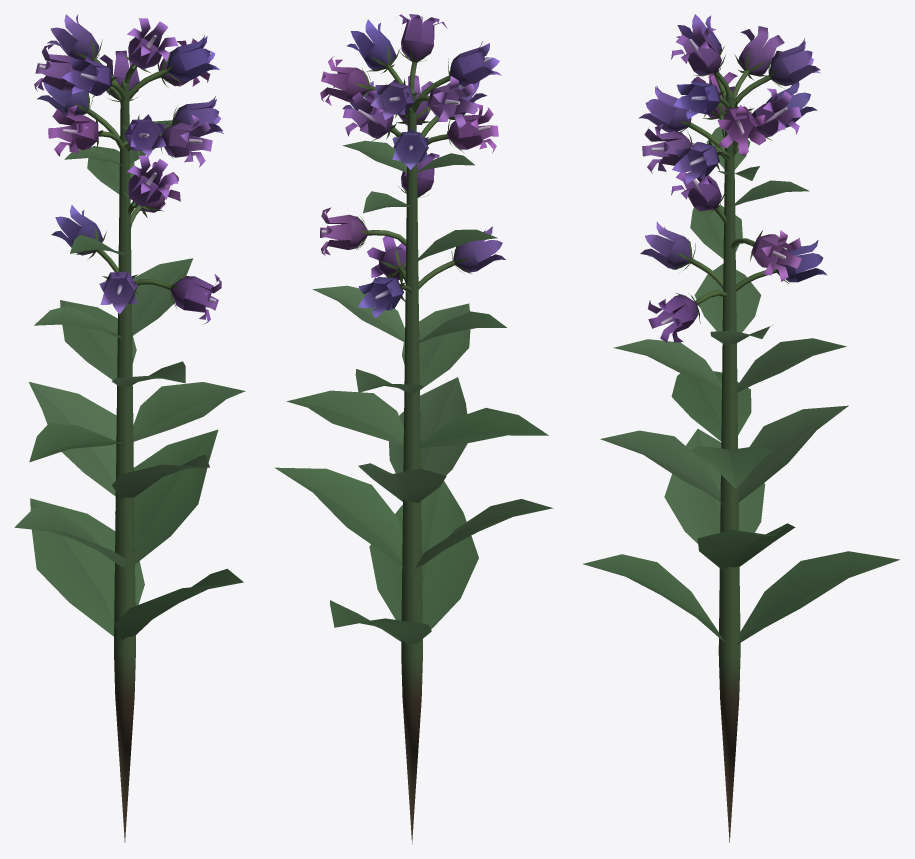
Rendered from plants-flowers-purple-bellflower_v2.fbx.
3 renders of one model, left to right at view 1: azimuth 30°, elevation 25°; view 2: azimuth 150°, elevation 25°; view 3: azimuth 270°, elevation 25°, orthographic.
Visible parts, largest first — view 1: Purple Bellflower_v2; view 2: Purple Bellflower_v2; view 3: Purple Bellflower_v2.
Part boxes in pixels (x1,y1,x2,y2): Purple Bellflower_v2: (14, 14, 245, 842); Purple Bellflower_v2: (275, 14, 553, 844); Purple Bellflower_v2: (583, 14, 899, 842).
Size of the model in its own units: 0.2215 by 0.7 by 0.2464.
